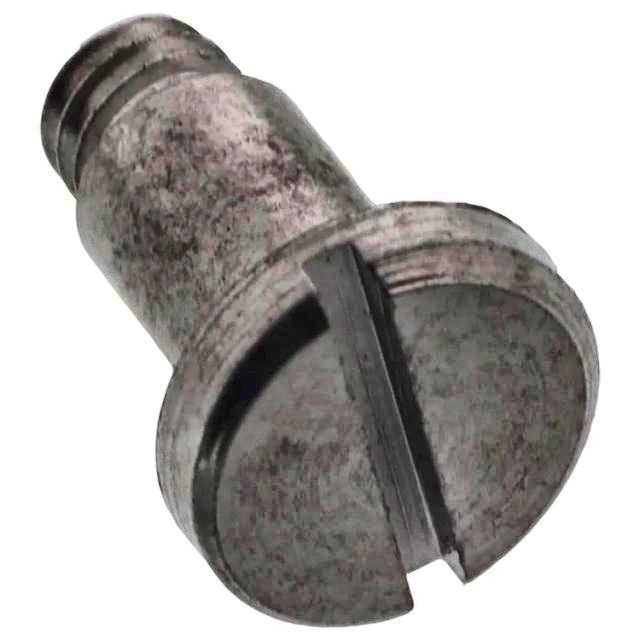duz: (151, 201, 602, 631)
